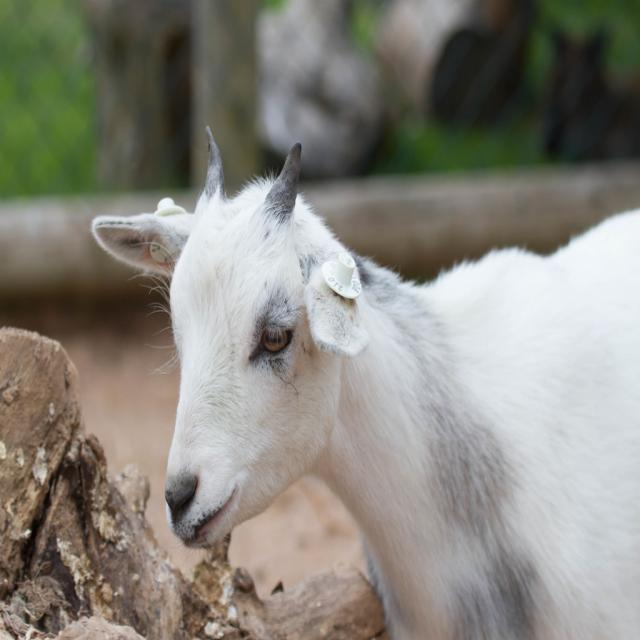Goat: (91, 126, 640, 640)
